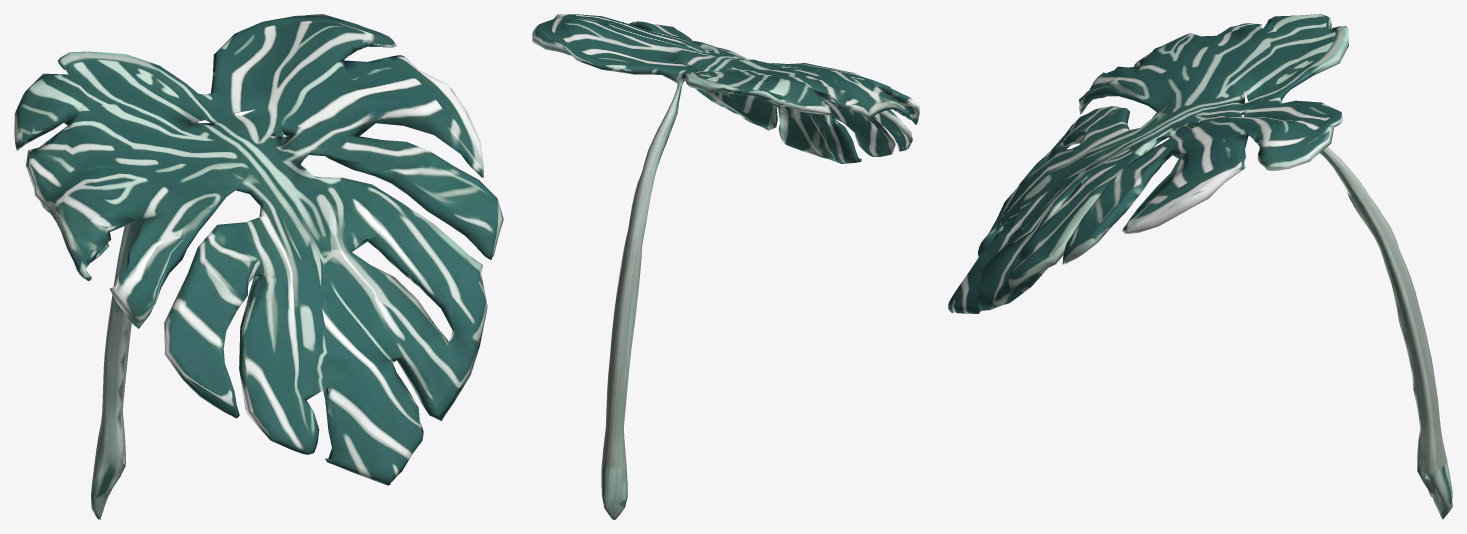
File: mon_zebra_v1.glb
The picture shows the model from 3 angles, left to right: view 1: azimuth 30°, elevation 25°; view 2: azimuth 150°, elevation 25°; view 3: azimuth 270°, elevation 25°; orthographic projection. The views are drawn at different scales.
Bounding box in the file's own units: 1.63 × 1.99 × 2.
Materials: 1 (1 with a texture image).
